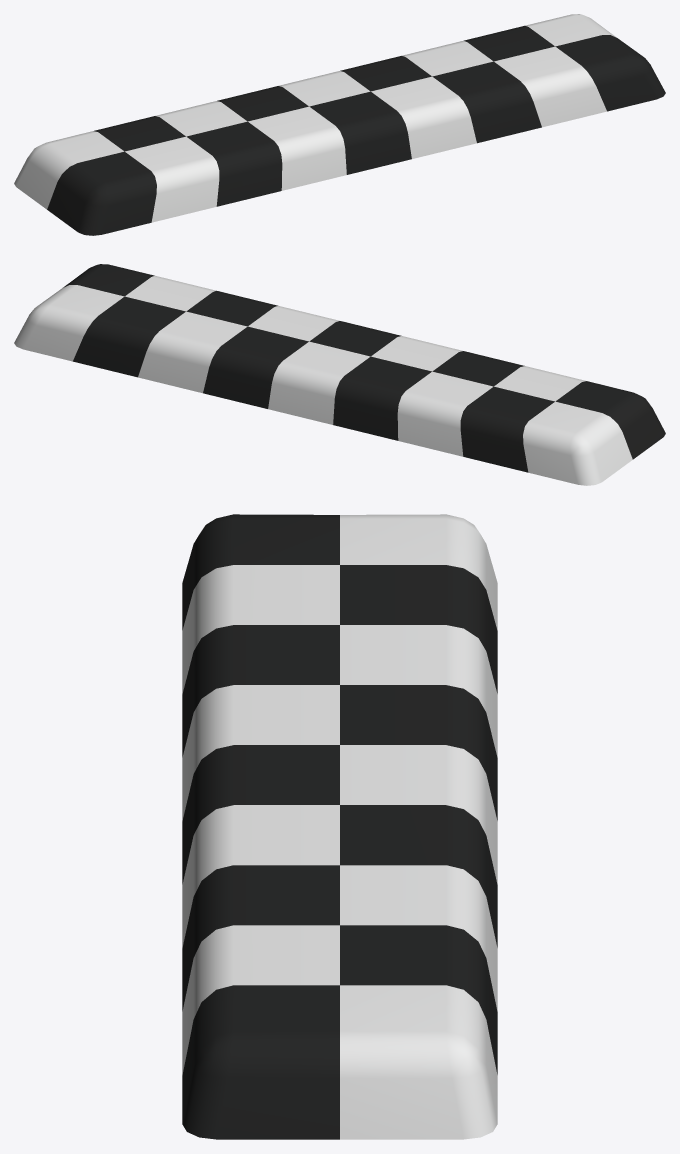
File: finish_001.glb
3 renders of one model, top to bottom at view 1: azimuth 30°, elevation 25°; view 2: azimuth 150°, elevation 25°; view 3: azimuth 270°, elevation 25°, orthographic. The views are drawn at different scales.
Visible parts, largest first — view 1: finish_001; view 2: finish_001; view 3: finish_001.
Boxes of the visible parts, x1,y1,x2,y2 form: finish_001: (14, 14, 665, 235); finish_001: (14, 264, 665, 485); finish_001: (182, 514, 497, 1139).
Bounding box in the file's own units: 3.77 × 0.2417 × 0.8795.
1 material, 1 textured.
